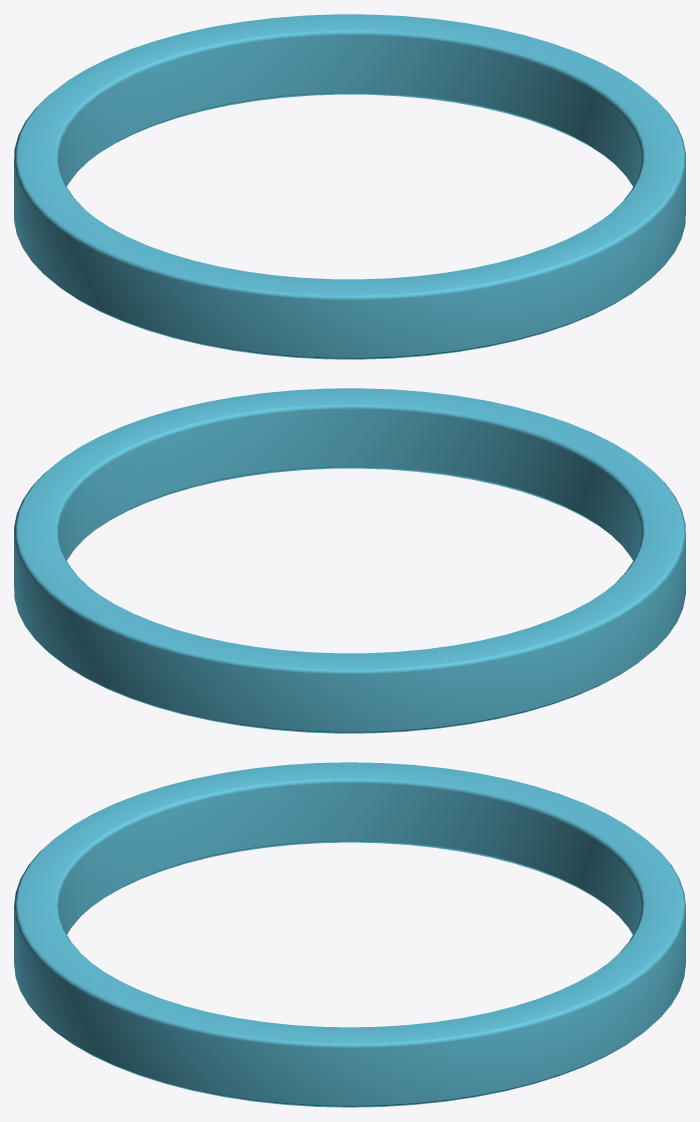
3 views of the same model, one above another, from view 1: azimuth 30°, elevation 25°; view 2: azimuth 150°, elevation 25°; view 3: azimuth 270°, elevation 25° (orthographic).
Visible parts, largest first — view 1: seal_body; view 2: seal_body; view 3: seal_body.
Boxes of the visible parts, x1,y1,x2,y2 form: seal_body: [14, 14, 685, 359]; seal_body: [14, 388, 685, 733]; seal_body: [14, 762, 685, 1107].
Bounding box in the file's own units: 0.075 × 0.008 × 0.075.
